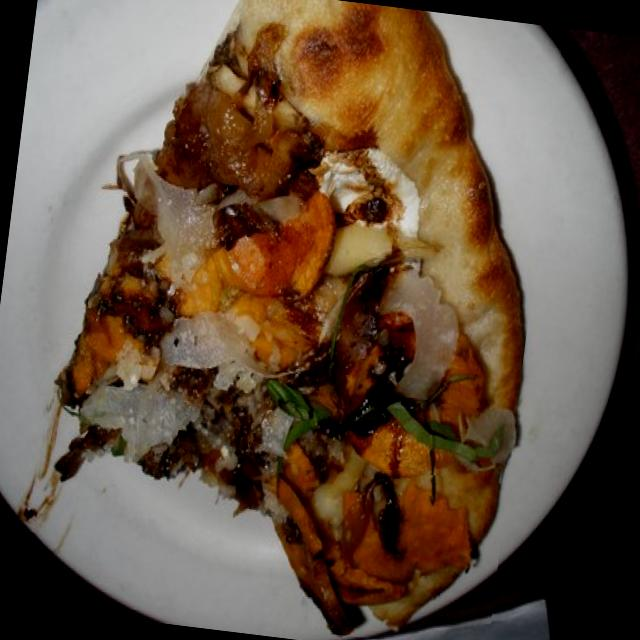basil: (368, 395, 508, 483), (247, 369, 329, 466)
pizza: (51, 0, 524, 633)
